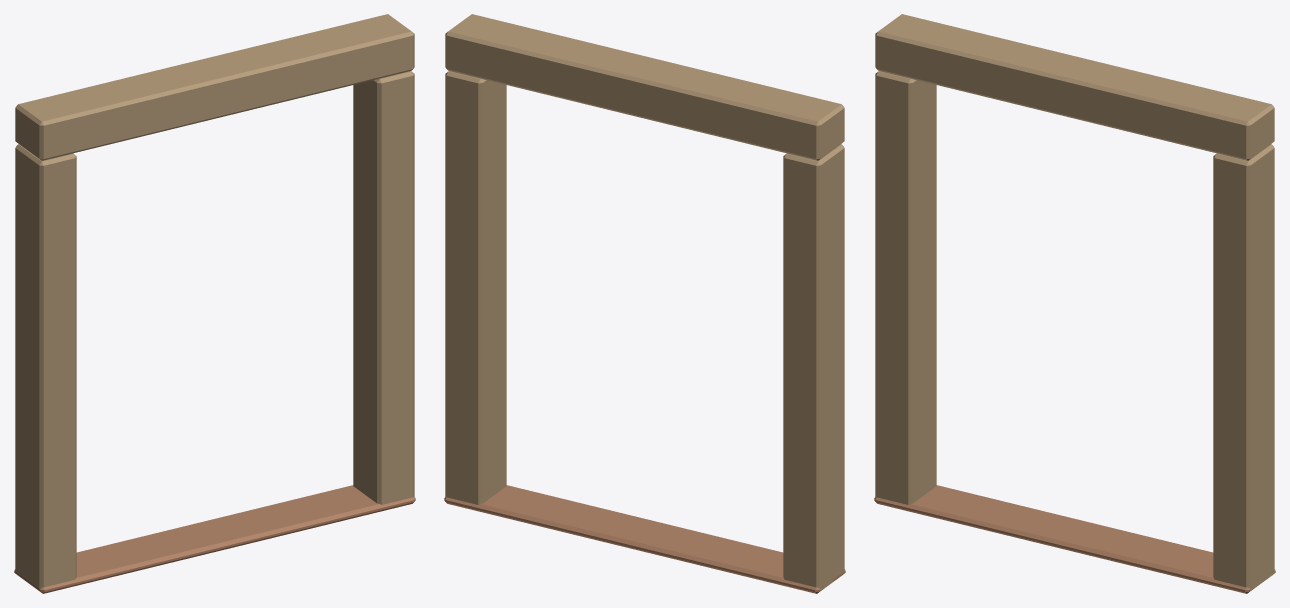
Rendered from door_frame.glb.
The picture shows the model from 3 angles, left to right: view 1: azimuth 30°, elevation 25°; view 2: azimuth 150°, elevation 25°; view 3: azimuth 330°, elevation 25°; orthographic projection.
Visible parts, largest first — view 1: door_frame; view 2: door_frame; view 3: door_frame.
Boxes of the visible parts, x1=… form: door_frame: x1=14, y1=14, x2=415, y2=593; door_frame: x1=444, y1=14, x2=845, y2=593; door_frame: x1=874, y1=14, x2=1275, y2=593.
Bounding box in the file's own units: 2 × 2.4 × 0.27.
